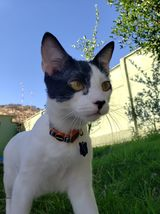cat: (3, 33, 124, 213)
